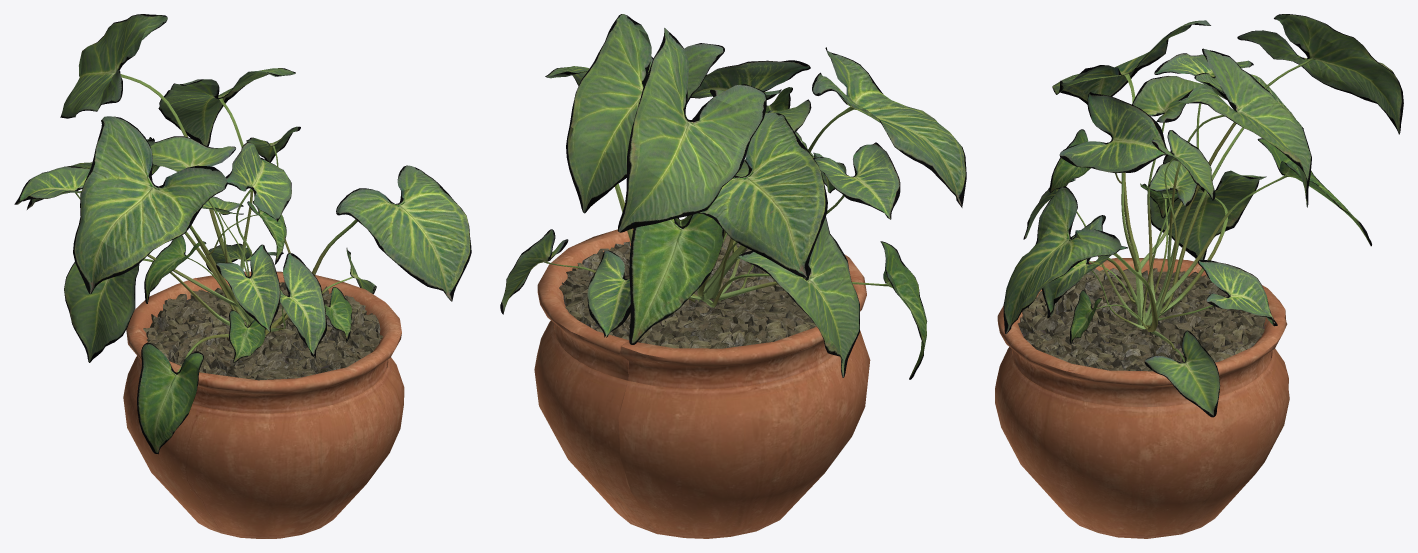
File: potted_plant_02.glb
3 renders of one model, left to right at view 1: azimuth 30°, elevation 25°; view 2: azimuth 150°, elevation 25°; view 3: azimuth 270°, elevation 25°, orthographic. The views are drawn at different scales.
Visible parts, largest first — view 1: potted_plant_02; view 2: potted_plant_02; view 3: potted_plant_02.
Boxes of the visible parts, box(x1,y1,x2,y2) form: potted_plant_02: box(14, 14, 471, 538); potted_plant_02: box(500, 14, 966, 538); potted_plant_02: box(995, 14, 1403, 538).
Size of the model in its own units: 0.7012 by 0.8417 by 0.6569.
Materials: 2 (2 with a texture image).
